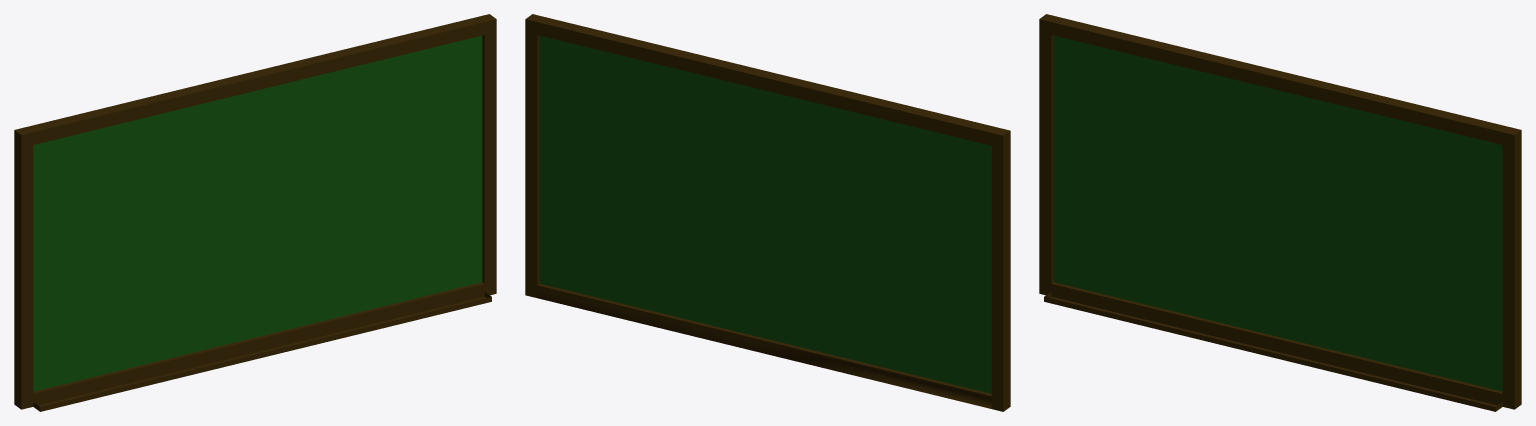
File: BlackBoard.fbx
3 views of the same model, side by side, from view 1: azimuth 30°, elevation 25°; view 2: azimuth 150°, elevation 25°; view 3: azimuth 330°, elevation 25° (orthographic).
Parts seen in each view (by area): view 1: Cube.002; view 2: Cube.002; view 3: Cube.002.
Part boxes in pixels (left/top/right/bottom): Cube.002: left=14, top=14, right=496, bottom=411; Cube.002: left=525, top=14, right=1010, bottom=411; Cube.002: left=1039, top=14, right=1521, bottom=411.
Bounding box in the file's own units: 200 × 110 × 10.26.
